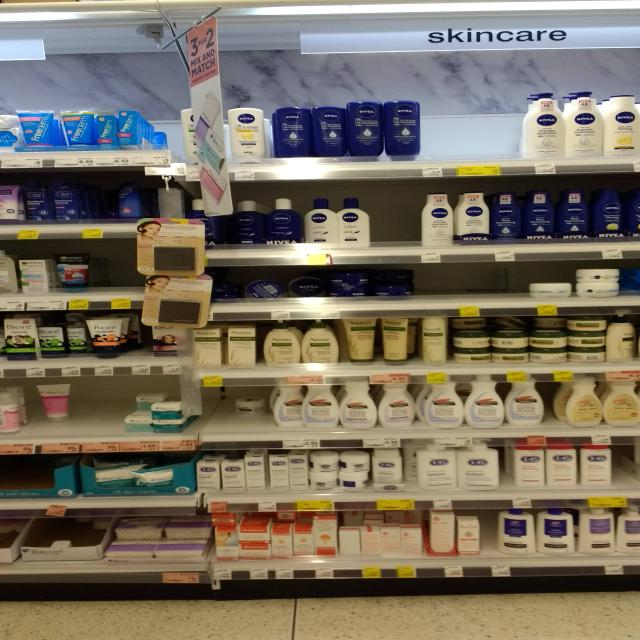unorganised: (341, 318, 413, 365), (191, 323, 259, 369), (86, 462, 176, 493), (415, 381, 466, 428), (553, 380, 603, 426), (404, 447, 457, 490), (35, 382, 76, 428), (216, 198, 256, 245), (112, 172, 143, 221), (231, 392, 269, 418), (137, 396, 155, 408)
